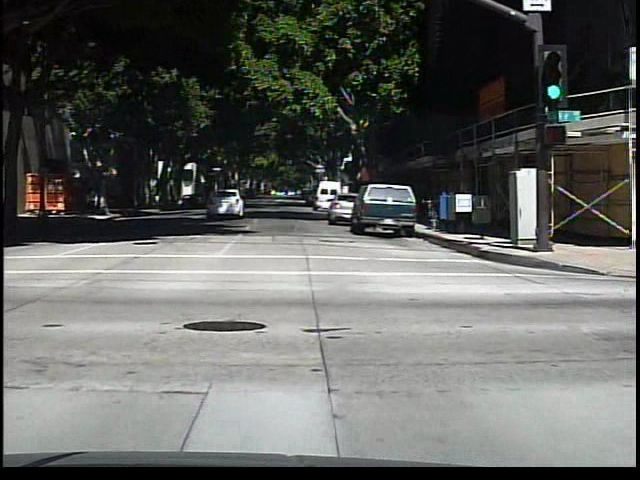person: (85, 182, 101, 217)
